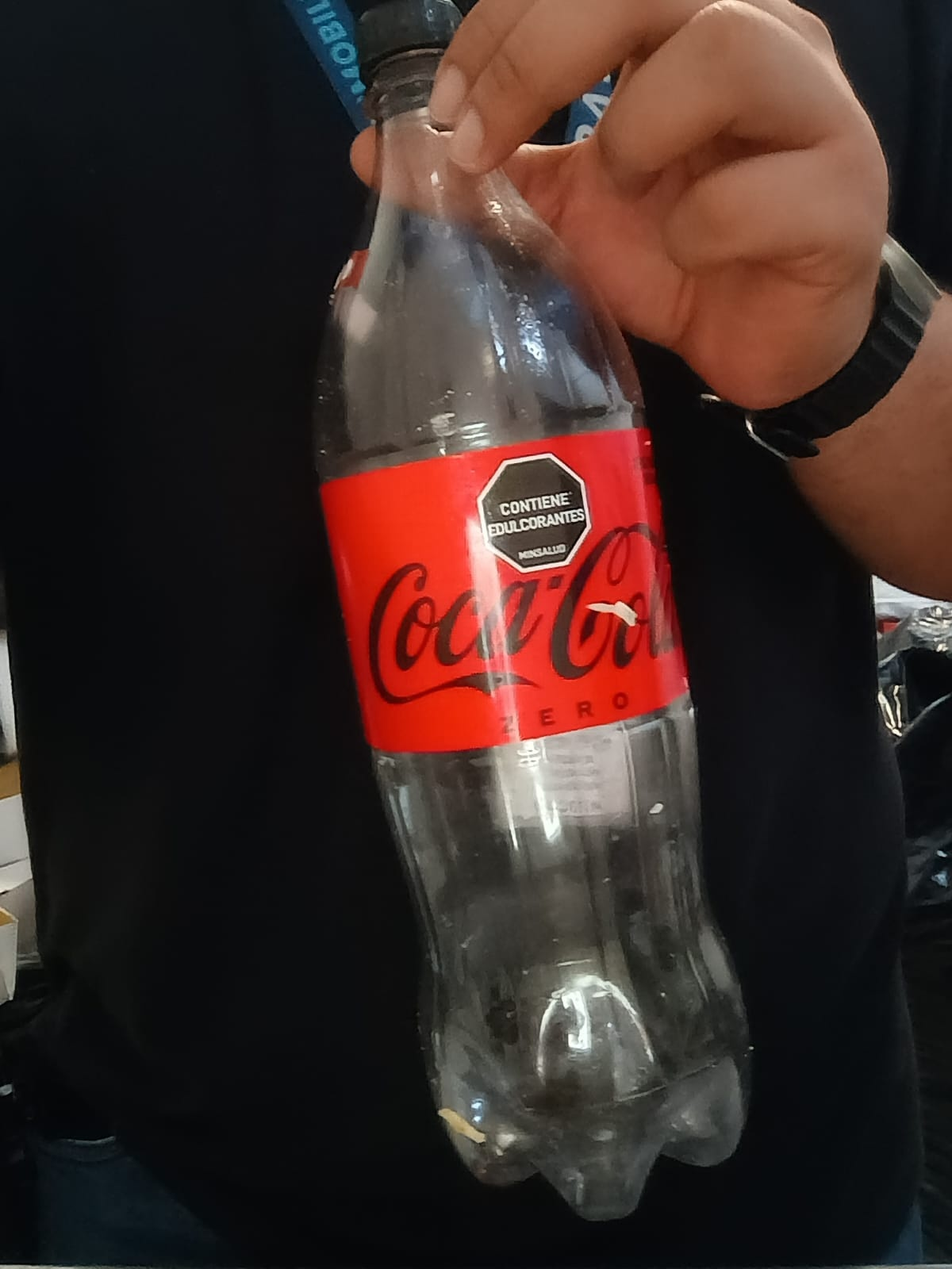Plastico: (308, 5, 751, 1218)
